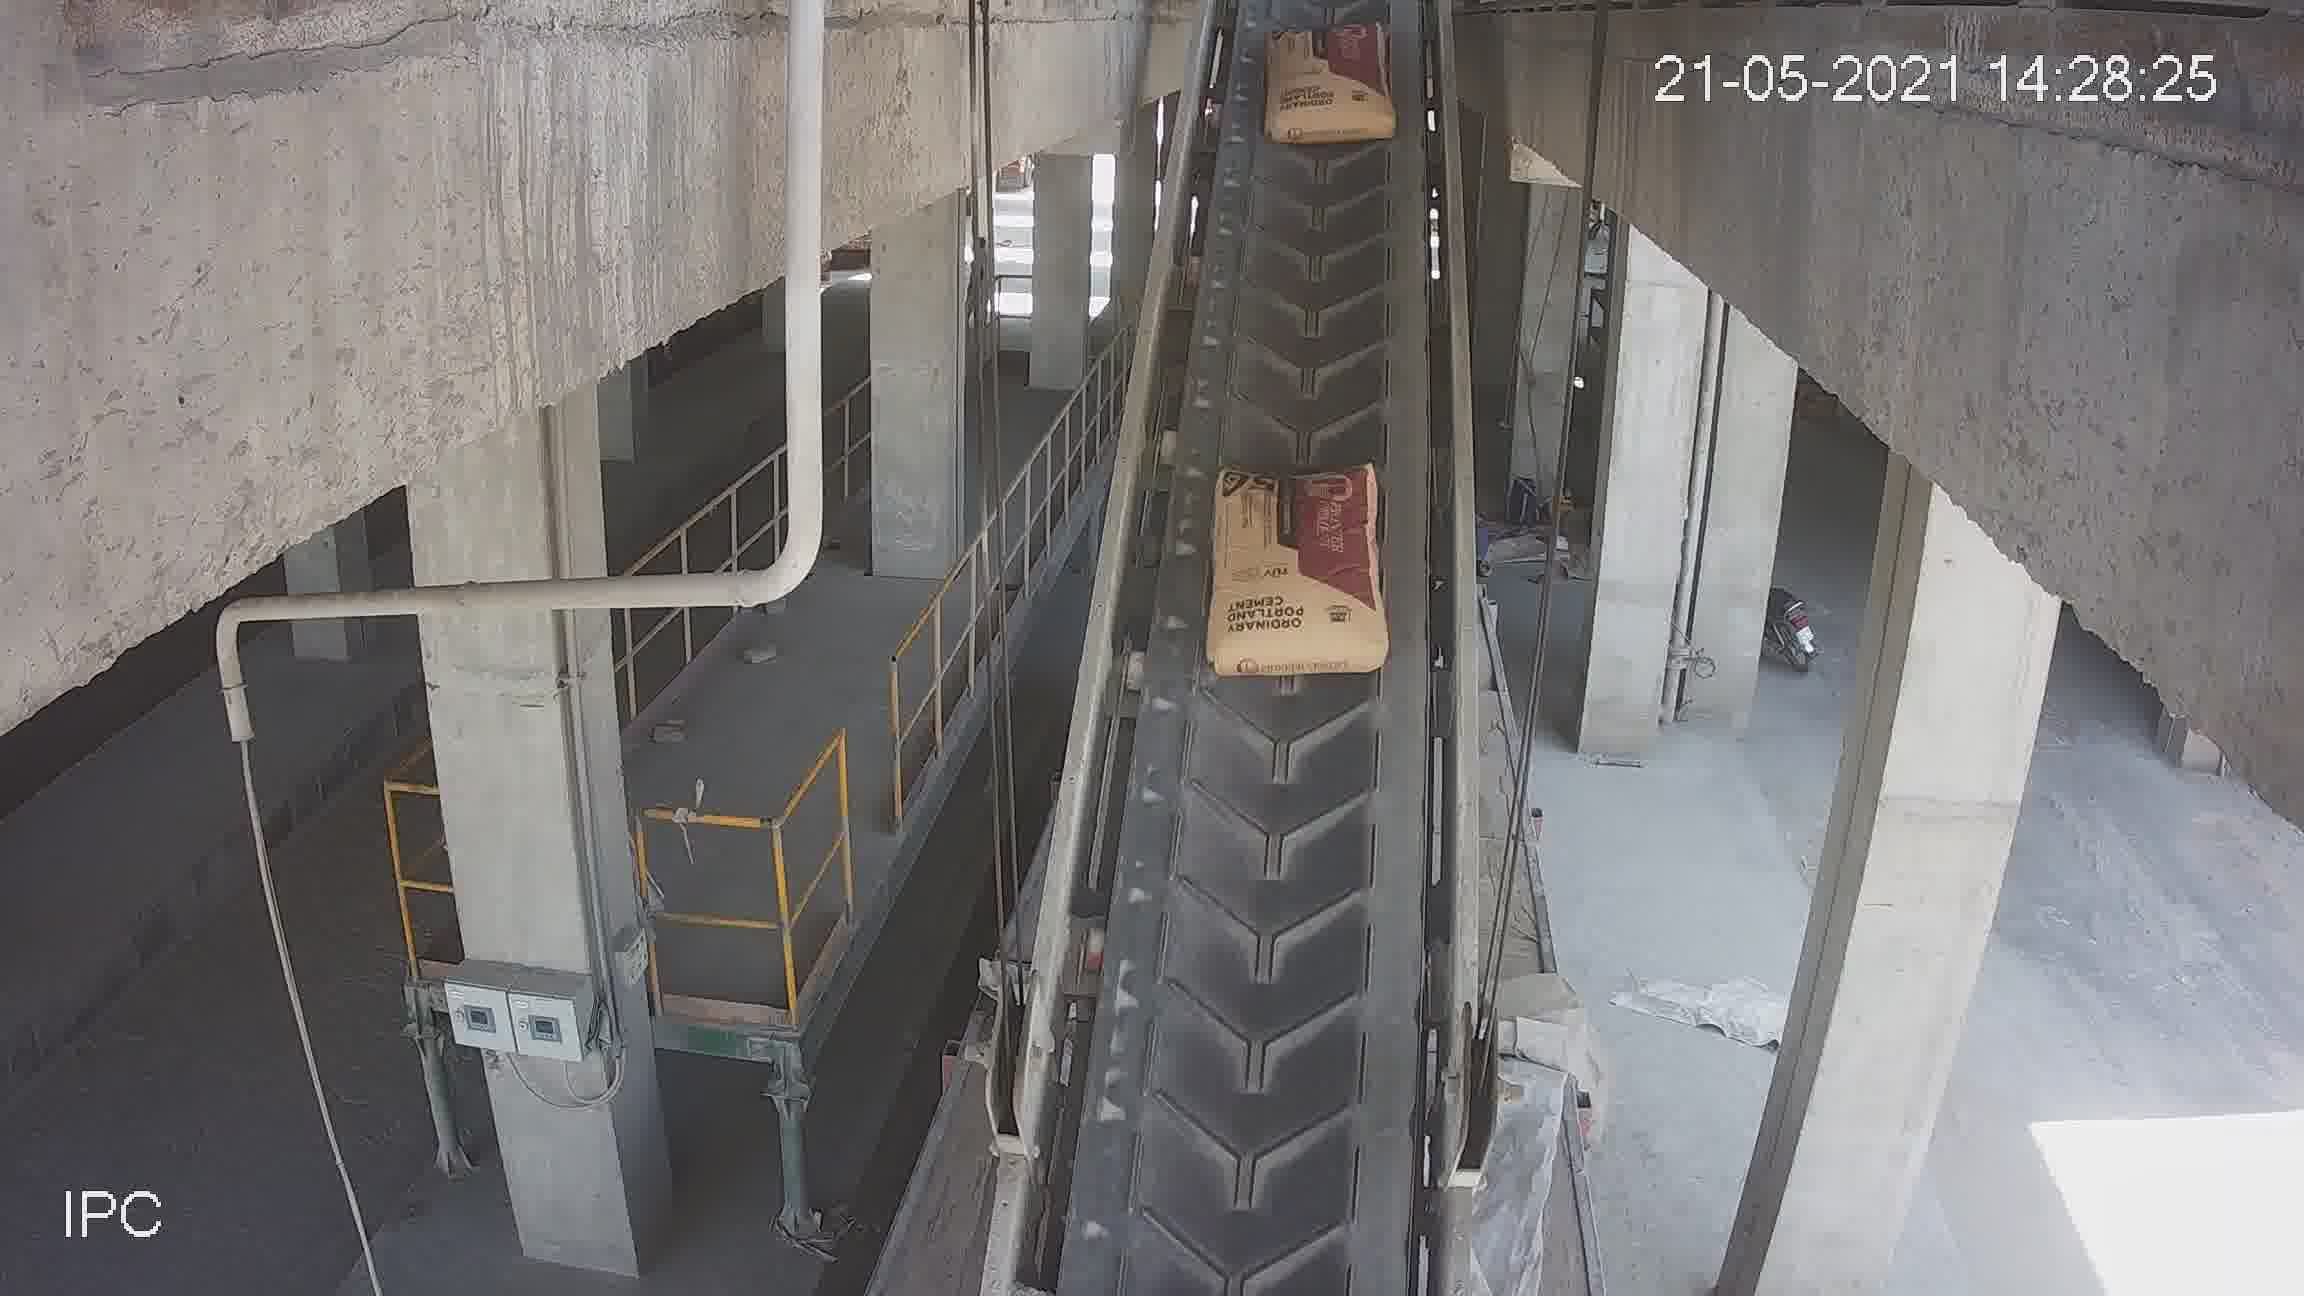bag: (1211, 472, 1386, 673), (1275, 25, 1381, 138)
belt: (1040, 74, 1514, 1225)
